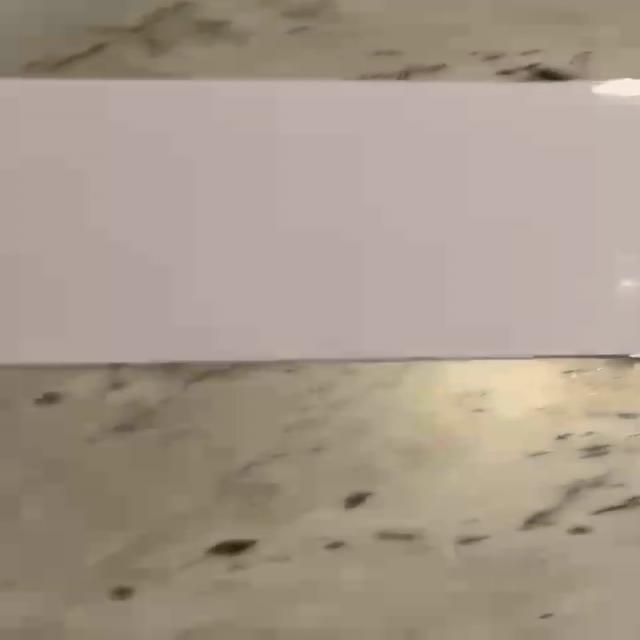road: (1, 78, 640, 364)
